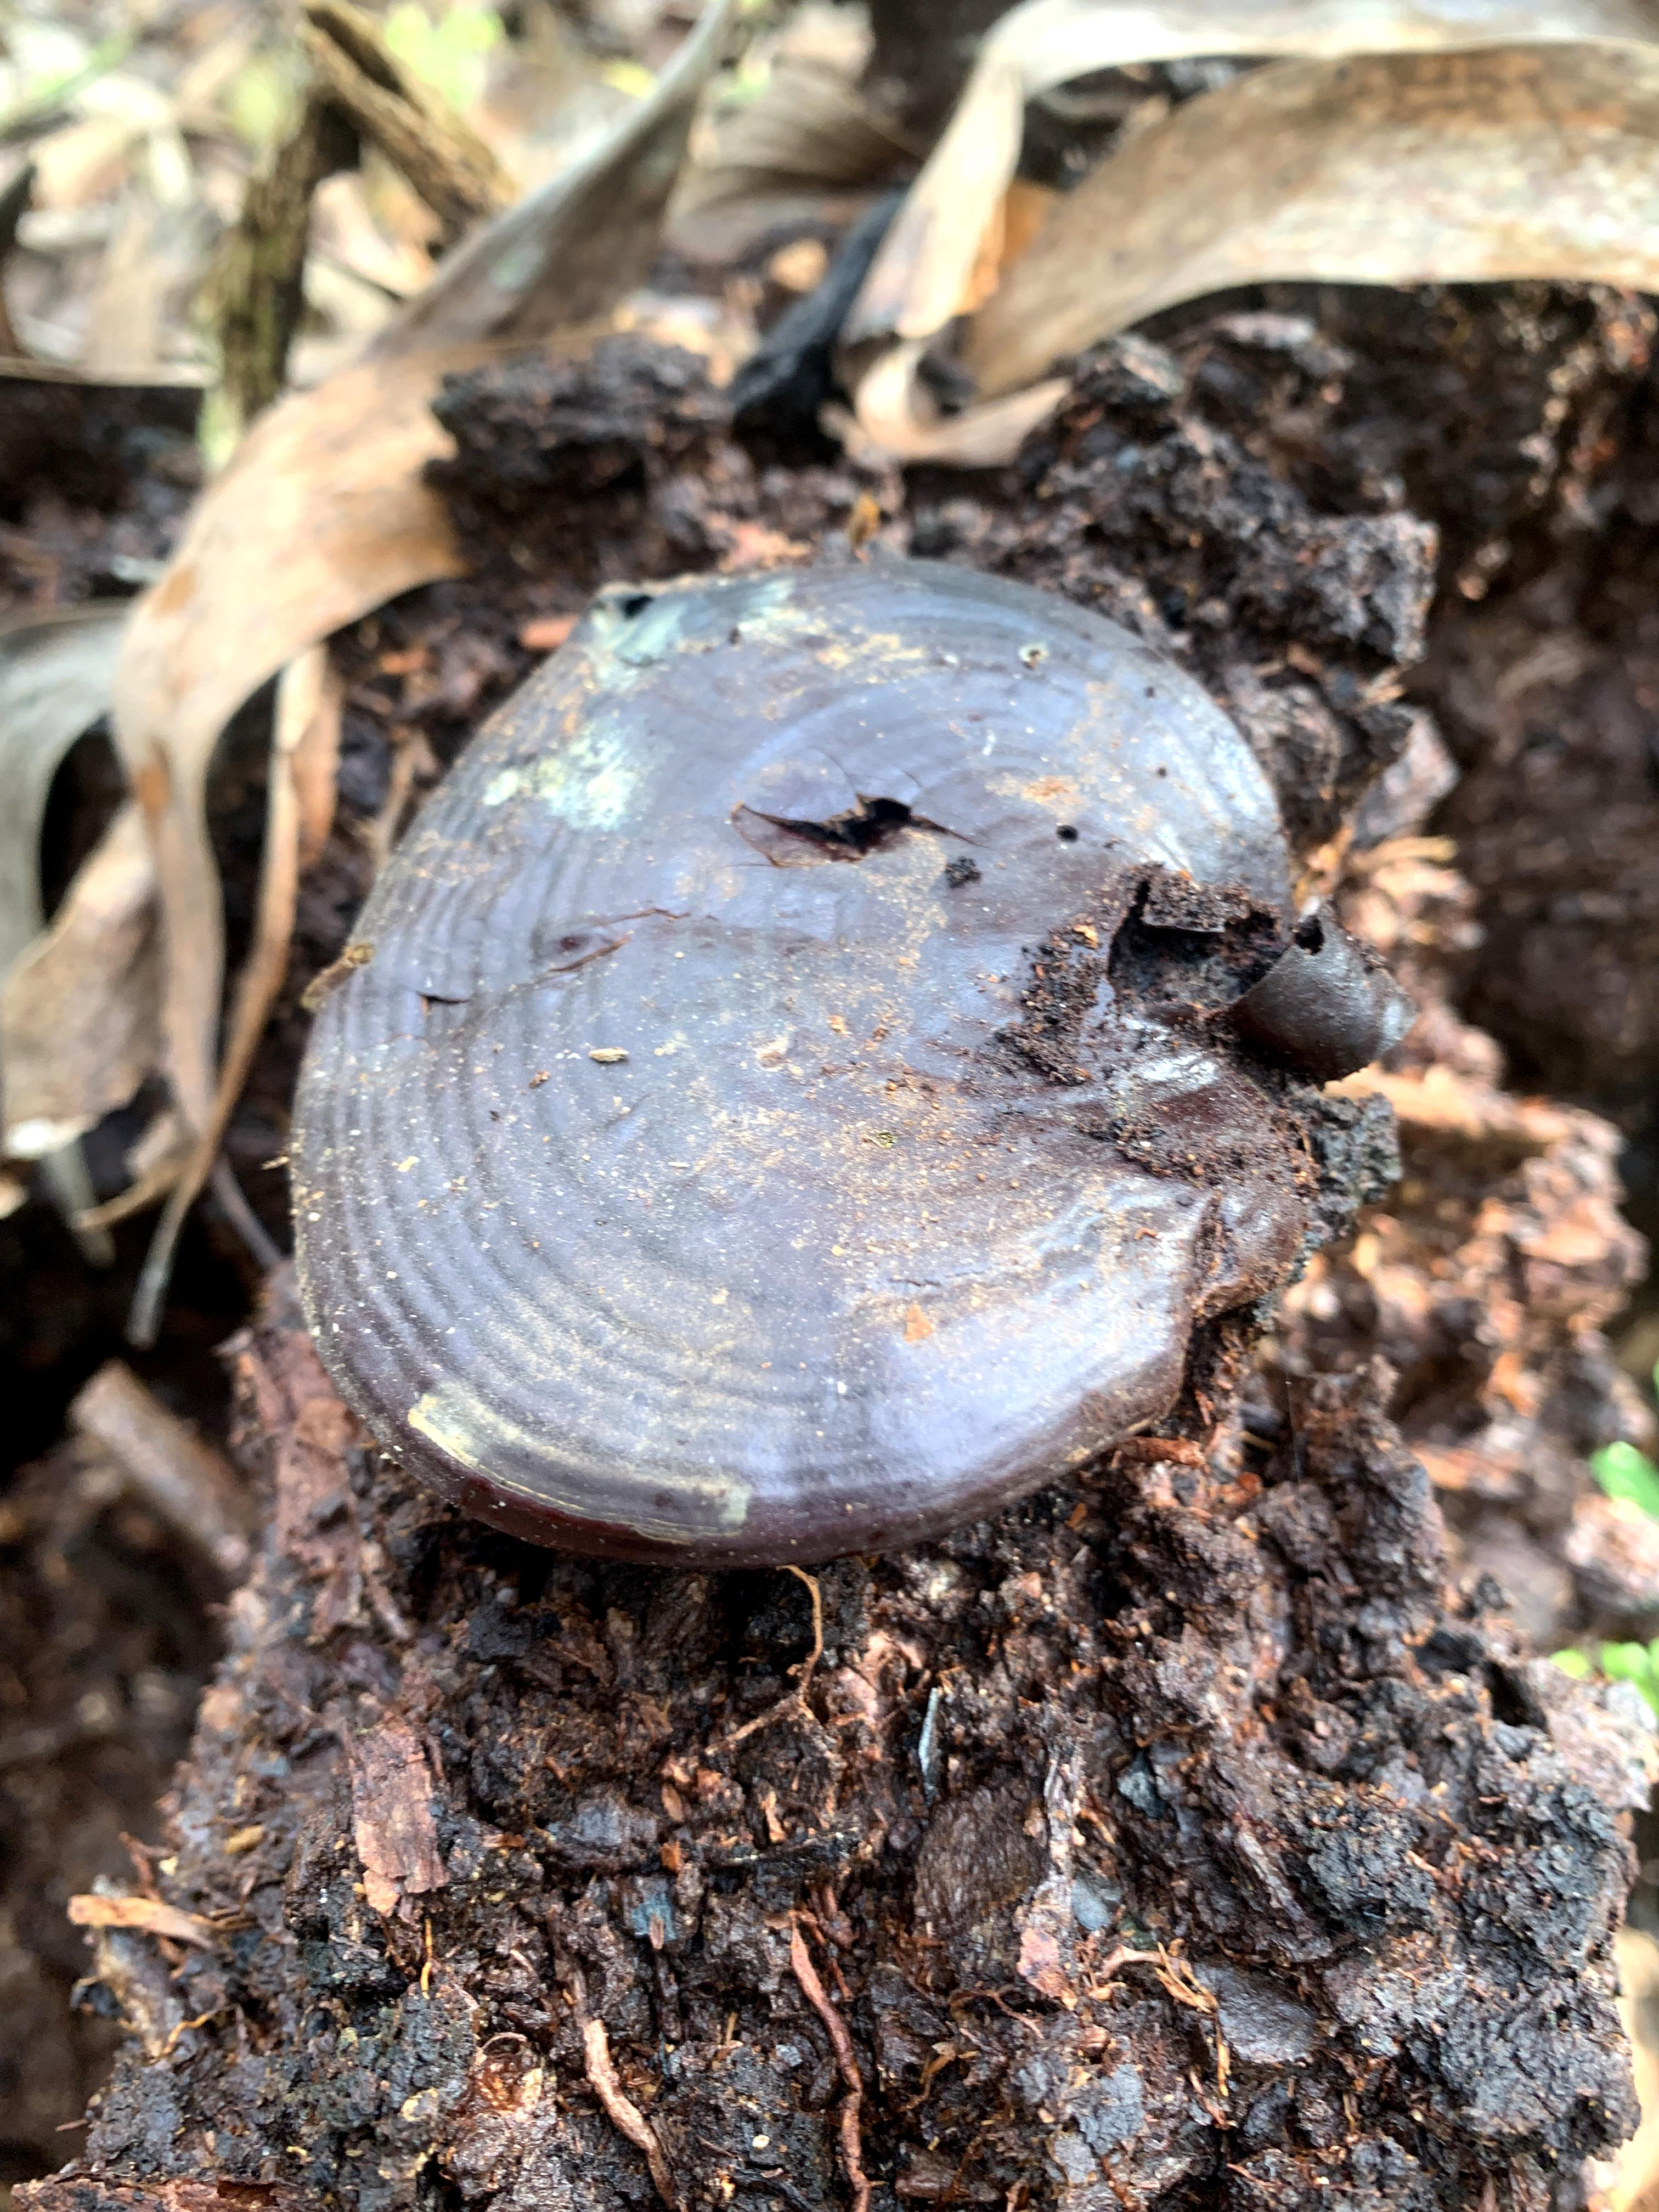Ganoderma - Fruit Body: (301, 533, 1328, 1554)
